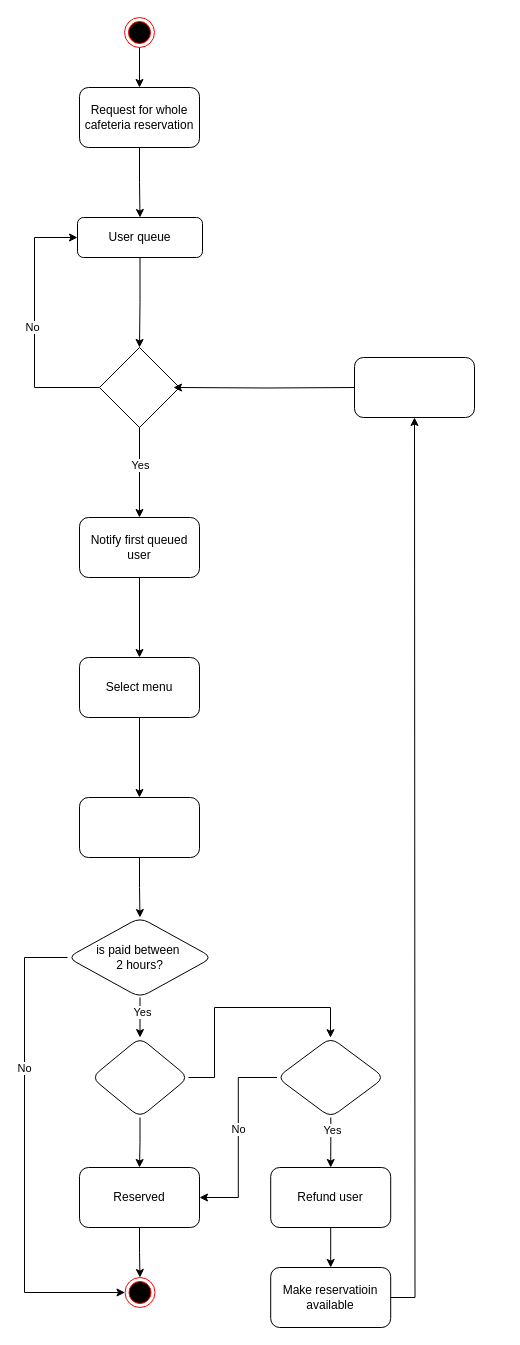
The diagram is 520 pixels wide and 1345 high, and some of its shapes have lost their labels. Here are the shapes that lost their labels. From the top down, the box of each, then its label:
(98, 346, 180, 428): If available
(354, 356, 474, 418): Pop user from queue
(78, 796, 200, 858): Select quantity
(276, 1036, 384, 1118): is cancelled in time?
